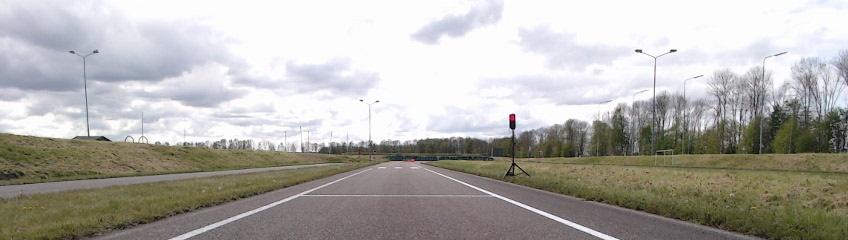TrafficLight-red: (510, 114, 515, 129)
